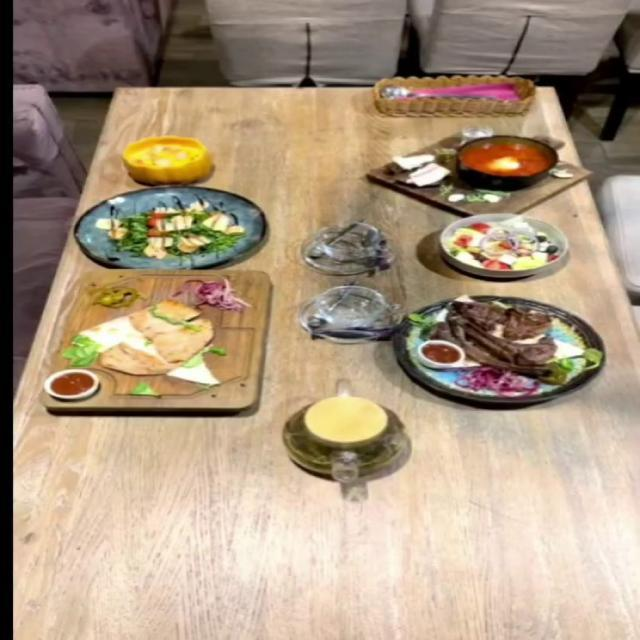meat: (41, 267, 275, 423), (392, 294, 608, 402)
salad: (72, 185, 264, 268), (437, 212, 570, 278)
soup: (387, 132, 566, 204), (121, 136, 212, 186)
tea: (280, 392, 410, 483)
